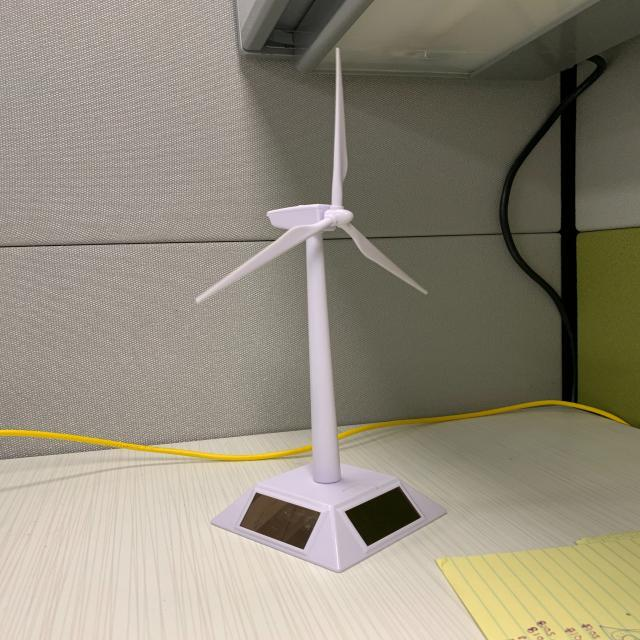solid-blade: (195, 218, 331, 303), (340, 224, 426, 294), (331, 48, 348, 207)
